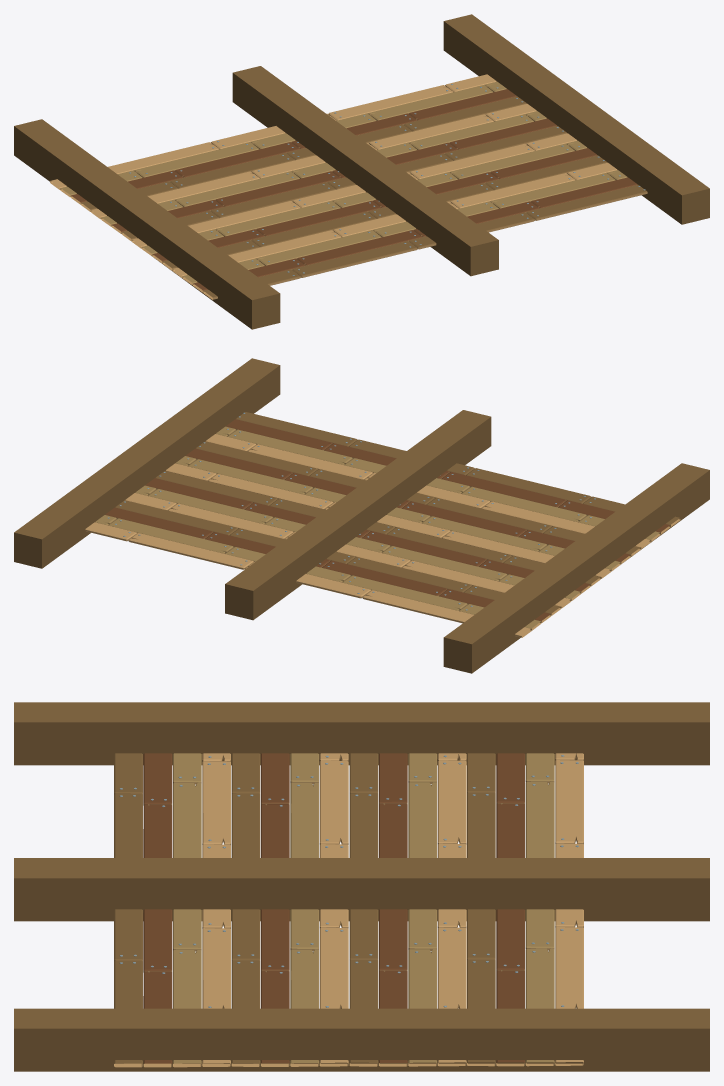
File: Ceiling.fbx
3 renders of one model, top to bottom at view 1: azimuth 30°, elevation 25°; view 2: azimuth 150°, elevation 25°; view 3: azimuth 270°, elevation 25°, orthographic. The views are drawn at different scales.
Visible parts, largest first — view 1: plain boards.003, Cube.001, Cube.002, Cube; view 2: plain boards.003, Cube.001, Cube.002, Cube; view 3: plain boards.003, Cube.002, Cube.001, Cube.
Part boxes in pixels (x1,y1,x2,y2): plain boards.003: [50, 74, 647, 299]; Cube.001: [14, 119, 280, 329]; Cube.002: [443, 14, 709, 224]; Cube: [232, 66, 498, 276]; plain boards.003: [85, 412, 680, 637]; Cube.001: [443, 463, 709, 673]; Cube.002: [14, 358, 280, 568]; Cube: [225, 410, 491, 620]; plain boards.003: [114, 753, 583, 1067]; Cube.002: [14, 1008, 709, 1071]; Cube.001: [14, 702, 709, 765]; Cube: [14, 858, 709, 921].
Bounding box in the file's own units: 1130 × 67.63 × 992.
